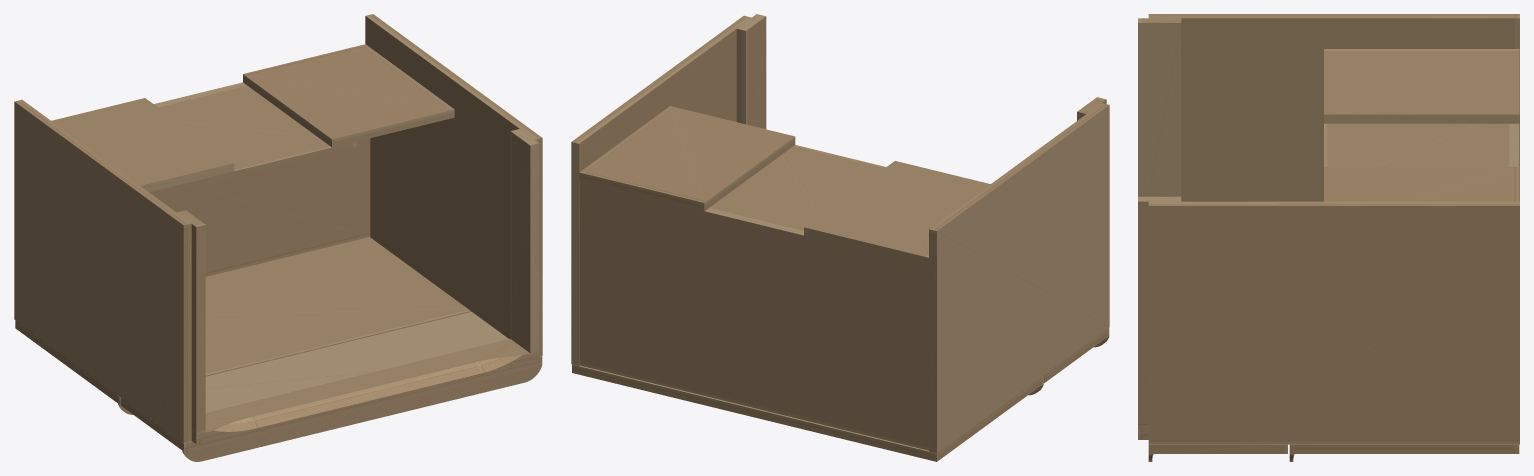
3 views of the same model, side by side, from view 1: azimuth 30°, elevation 25°; view 2: azimuth 150°, elevation 25°; view 3: azimuth 270°, elevation 25° (orthographic). The views are drawn at different scales.
Visible parts, largest first — view 1: Node1, Node11, Node7, Node2, Node13, Node8, Node5, Node3, Node4, Node10, Node12, Node6 (+1 smaller); view 2: Node2, Node1, Node13, Node11, Node3, Node4, Node7, Node12, Node8; view 3: Node11, Node1, Node3, Node4, Node6, Node13, Node12, Node7, Node8, Node2.
Boxes of the visible parts, <box> form: Node1: <box>14,99,191,443</box>; Node11: <box>365,14,542,356</box>; Node7: <box>15,237,468,402</box>; Node2: <box>149,82,370,276</box>; Node13: <box>243,44,454,147</box>; Node8: <box>120,311,508,449</box>; Node5: <box>191,339,539,444</box>; Node3: <box>51,98,234,191</box>; Node4: <box>158,85,356,182</box>; Node10: <box>182,356,542,461</box>; Node12: <box>510,129,539,353</box>; Node6: <box>177,210,205,434</box>; Node2: <box>579,181,928,450</box>; Node1: <box>929,103,1109,453</box>; Node13: <box>579,106,795,211</box>; Node11: <box>571,15,751,365</box>; Node3: <box>804,161,990,265</box>; Node4: <box>709,145,885,230</box>; Node7: <box>572,364,1041,461</box>; Node12: <box>736,14,766,129</box>; Node8: <box>1044,329,1107,382</box>; Node11: <box>1148,201,1519,444</box>; Node1: <box>1148,14,1519,201</box>; Node3: <box>1324,49,1519,123</box>; Node4: <box>1324,123,1509,166</box>; Node6: <box>1138,18,1181,196</box>; Node13: <box>1324,167,1519,201</box>; Node12: <box>1138,196,1181,429</box>; Node7: <box>1293,444,1519,453</box>; Node8: <box>1152,444,1287,453</box>; Node2: <box>1509,123,1519,166</box>.
Size of the model in its own units: 73.4 by 46.99 by 61.7.
1 material, 1 textured.
